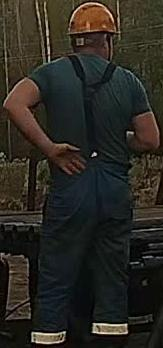helmet: (66, 1, 119, 41)
